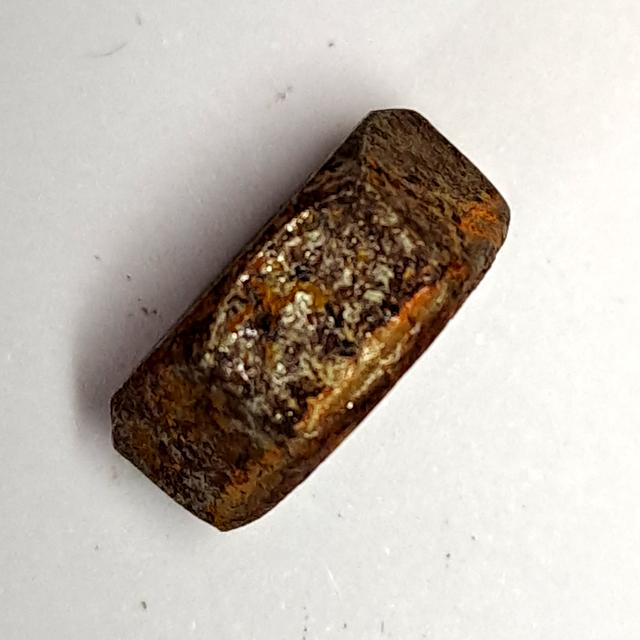Side_Rust: (92, 98, 521, 545)
